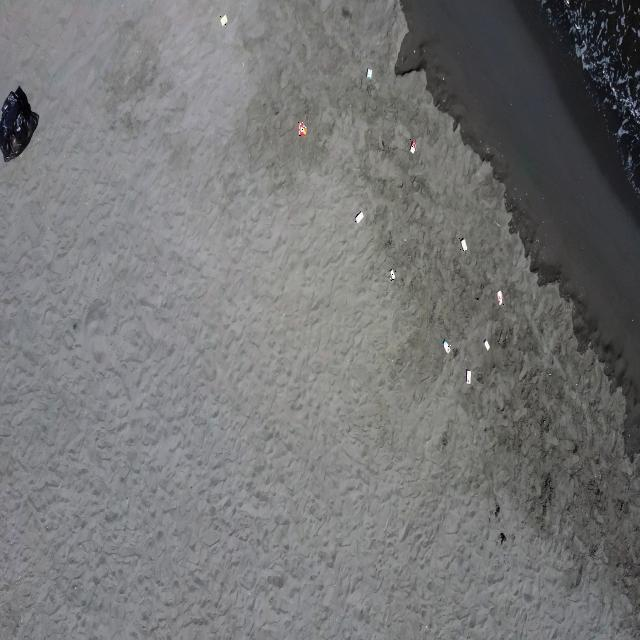Garbage: (0, 87, 37, 160), (296, 120, 307, 136), (443, 339, 451, 352), (408, 138, 415, 152), (355, 211, 363, 223), (464, 368, 470, 384), (460, 238, 467, 251), (496, 289, 502, 304), (388, 267, 395, 279), (220, 13, 227, 24), (366, 68, 372, 79), (484, 339, 487, 350)
